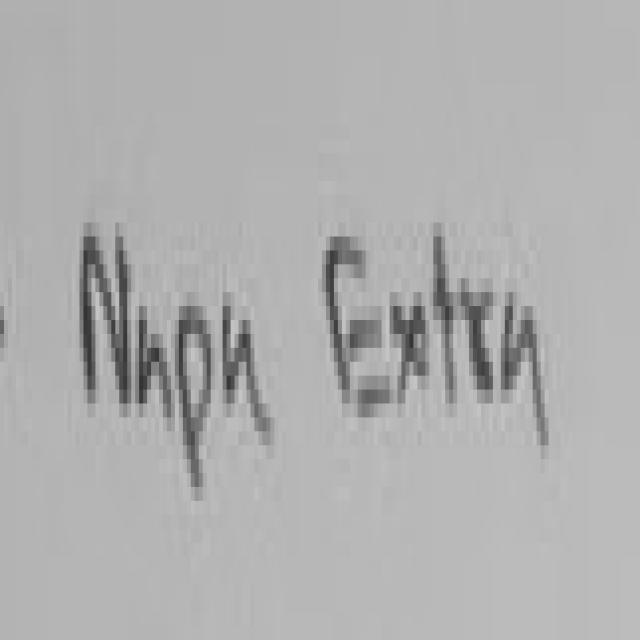E: (316, 197, 394, 466)
N: (64, 203, 132, 462)
a: (212, 247, 276, 505), (498, 270, 551, 470), (130, 274, 173, 452)
p: (177, 258, 218, 540)
r: (459, 255, 502, 428)
t: (426, 208, 466, 448)
x: (388, 255, 432, 438)
